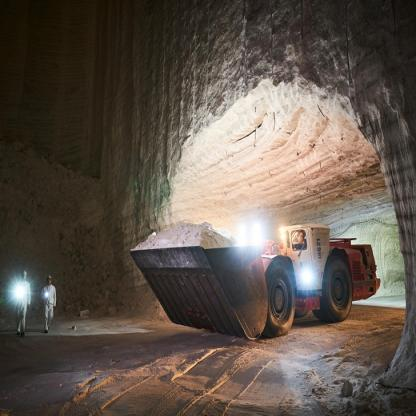bull_dozer/loader/grader: (133, 192, 380, 354)
person: (9, 261, 31, 337), (41, 270, 61, 334)
